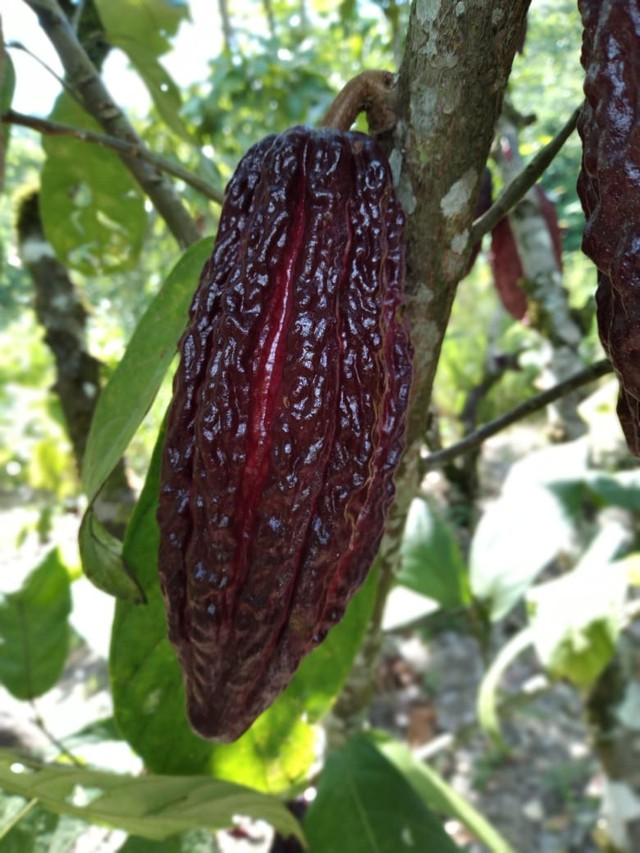Health: (153, 120, 418, 743)
